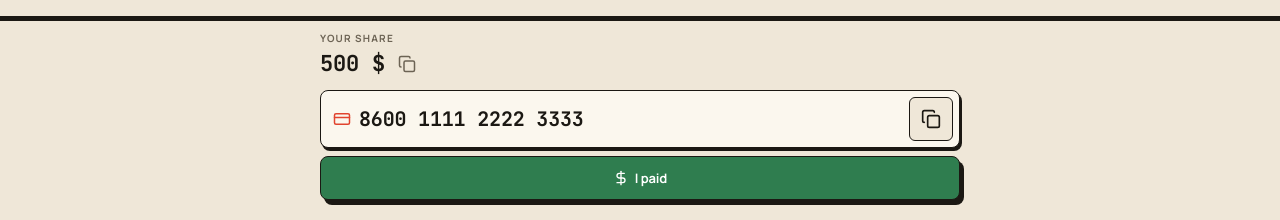
BillPaymentDock participant states › copies the numeric amount and only shows success after the write resolves
This screenshot has width=1280, height=220.
Click the button named "Copy amount" at (407, 64), box left=389, top=46, right=425, bottom=82
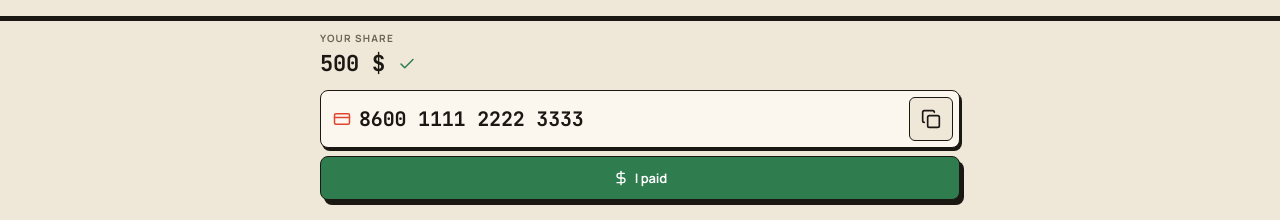
Expected: the icon next to "500 $" has class "text-success", left=398, top=55, right=416, bottom=73
